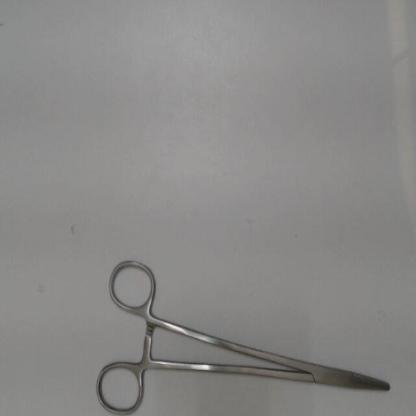8 Mayo Needle Holder: (90, 250, 400, 415)
